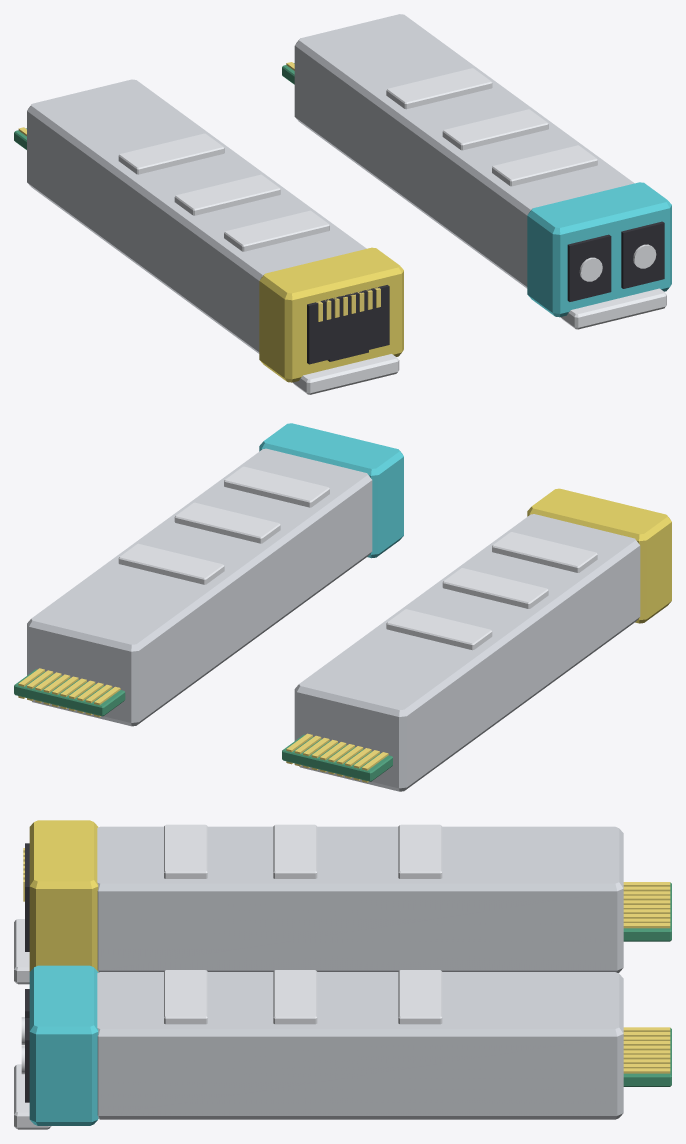
Rendered from dc_sfp_transceiver.glb.
The picture shows the model from 3 angles, top to bottom: view 1: azimuth 30°, elevation 25°; view 2: azimuth 150°, elevation 25°; view 3: azimuth 270°, elevation 25°; orthographic projection. The views are drawn at different scales.
Visible parts, largest first — view 1: SFP_Fiber_25Gbps_Module, SFP_RJ45_10Gbps_Module; view 2: SFP_RJ45_10Gbps_Module, SFP_Fiber_25Gbps_Module; view 3: SFP_Fiber_25Gbps_Module, SFP_RJ45_10Gbps_Module.
Boxes of the visible parts, <box> form: SFP_Fiber_25Gbps_Module: <box>282,14,671,329</box>; SFP_RJ45_10Gbps_Module: <box>14,79,403,394</box>; SFP_RJ45_10Gbps_Module: <box>282,488,671,791</box>; SFP_Fiber_25Gbps_Module: <box>14,423,403,726</box>; SFP_Fiber_25Gbps_Module: <box>14,965,671,1129</box>; SFP_RJ45_10Gbps_Module: <box>14,820,671,984</box>.
Bounding box in the file's own units: 0.318 × 0.079 × 0.421.
